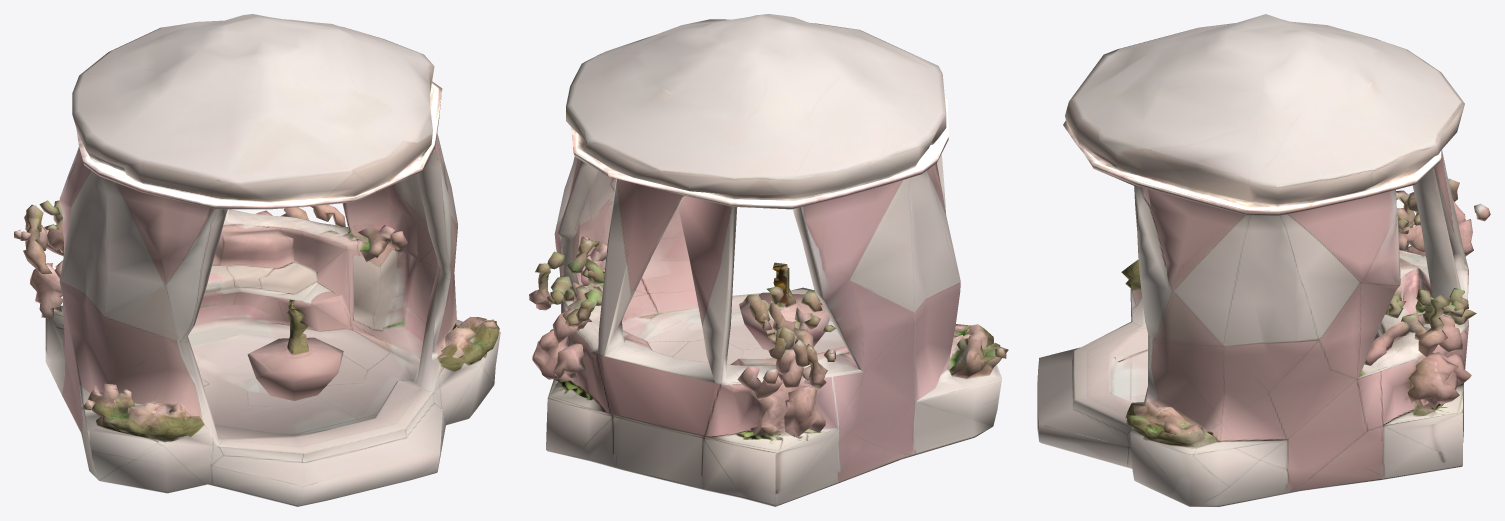
Rendered from support-sanctuary-compressed.glb.
The picture shows the model from 3 angles, left to right: view 1: azimuth 30°, elevation 25°; view 2: azimuth 150°, elevation 25°; view 3: azimuth 270°, elevation 25°; orthographic projection.
Visible parts, largest first — view 1: Mesh_0.001; view 2: Mesh_0.001; view 3: Mesh_0.001.
Boxes of the visible parts, left/top/right/bottom form: Mesh_0.001: left=14, top=14, right=500, bottom=506; Mesh_0.001: left=529, top=14, right=1008, bottom=506; Mesh_0.001: left=1037, top=14, right=1490, bottom=506.
Bounding box in the file's own units: 2.81 × 2.4 × 2.64.
1 material, 1 textured.
